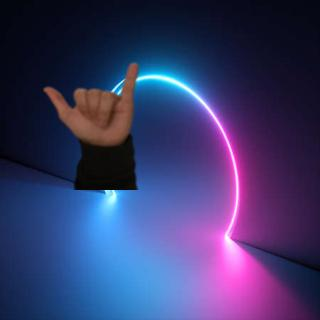HAVE: (41, 59, 145, 147)
